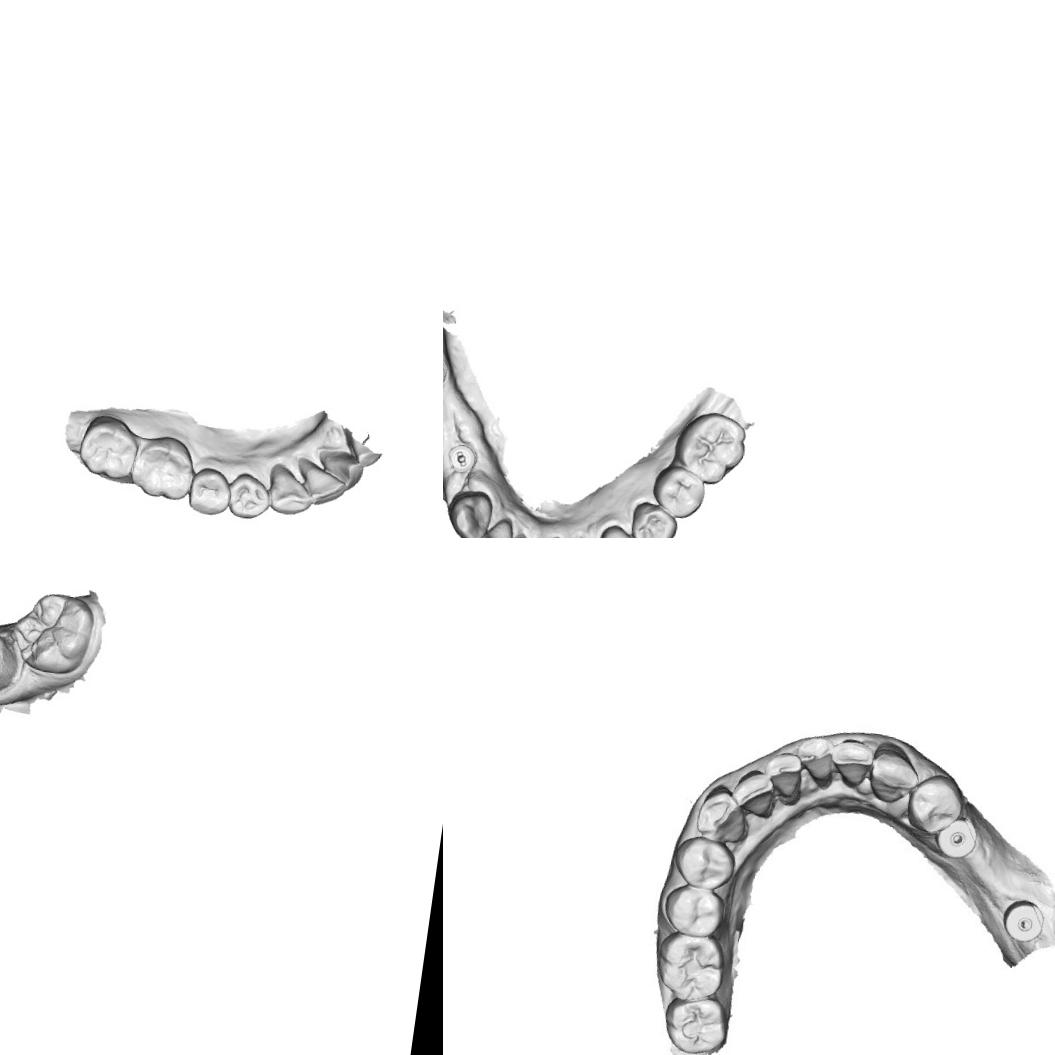canine: (866, 740, 923, 808), (694, 782, 754, 844), (262, 462, 318, 520), (443, 486, 496, 538), (593, 521, 648, 538)
implant: (932, 812, 980, 861), (1000, 896, 1046, 944)
implant_minus: (445, 442, 479, 476)
incisor: (296, 459, 350, 510), (729, 766, 780, 820), (759, 750, 807, 806), (792, 732, 838, 790), (826, 737, 876, 790), (312, 446, 365, 491), (473, 513, 519, 538)
molar: (6, 587, 98, 678), (670, 408, 751, 490), (652, 928, 730, 1006), (125, 429, 201, 505), (72, 410, 144, 485), (659, 990, 732, 1055), (0, 625, 22, 699)
premolar: (902, 770, 966, 839), (671, 832, 739, 893), (660, 882, 728, 940), (648, 462, 710, 522), (224, 468, 274, 524), (186, 464, 234, 519), (627, 498, 681, 538)
